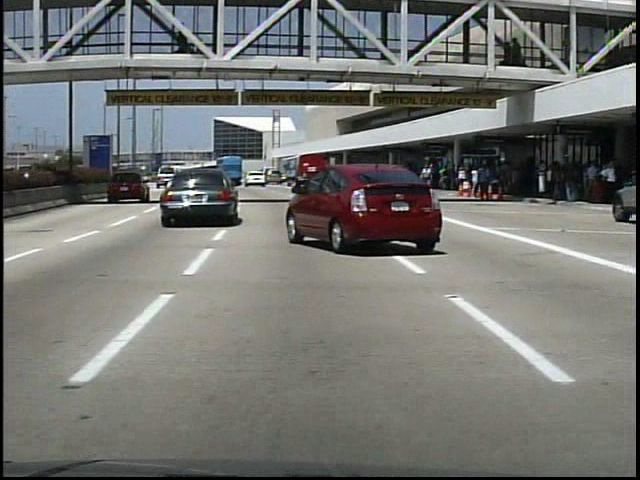person: (477, 161, 494, 205), (175, 28, 191, 60)
